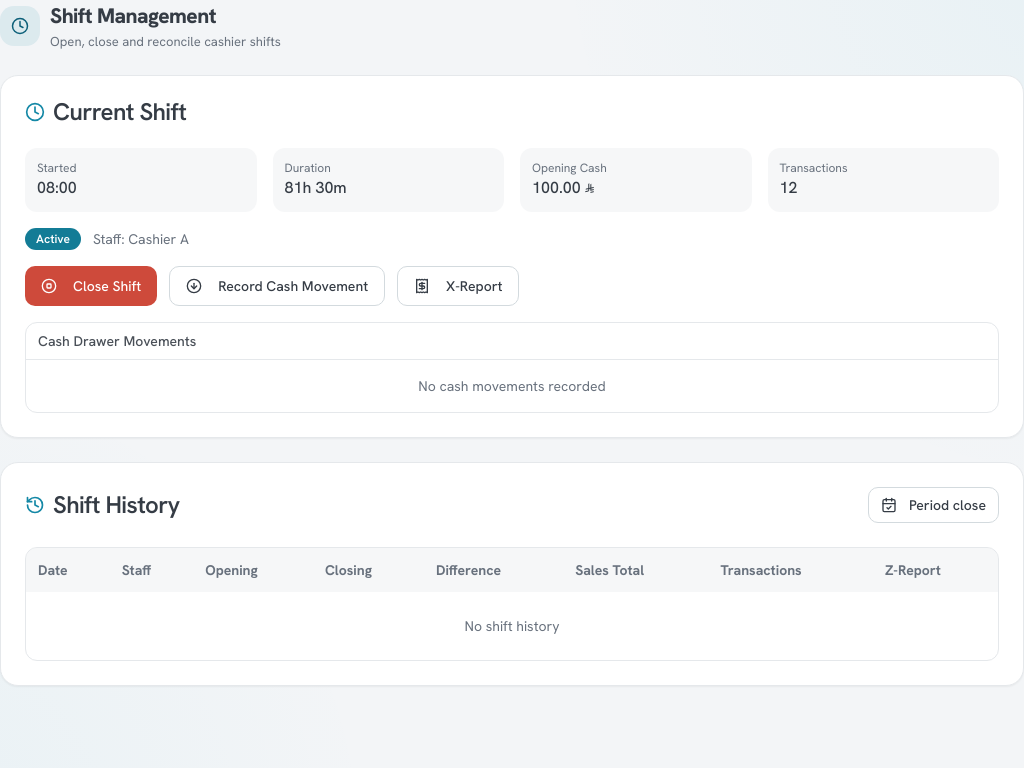
Test: ShiftManagement EOD checklist gate (issue #210) › surfaces the blocking held-ticket item when the close dialog opens
What coordinates should you click on to do the following:
click the button "Close Shift"
I would click on:
 (91, 286)
Its box is x1=25 y1=266 x2=157 y2=306.
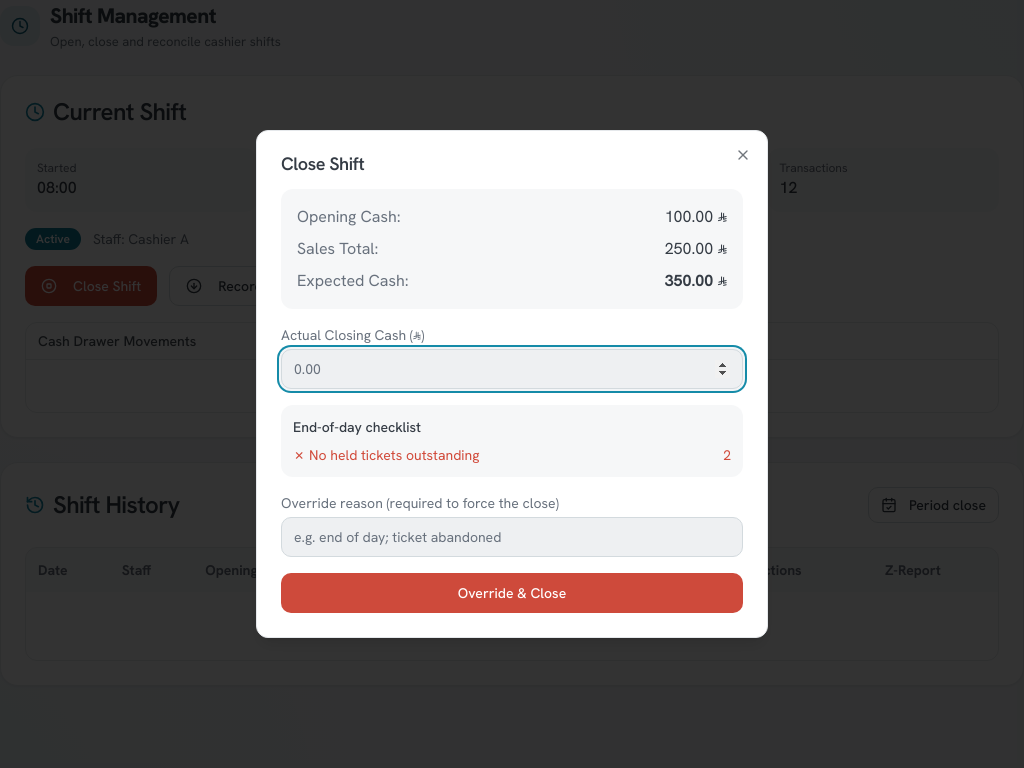
Expected: the text "✗ No held tickets outstanding" is shown, x1=293 y1=445 x2=479 y2=465
Expected: the field labelled "Override reason (required to force the close)" is shown, x1=281 y1=517 x2=743 y2=557
